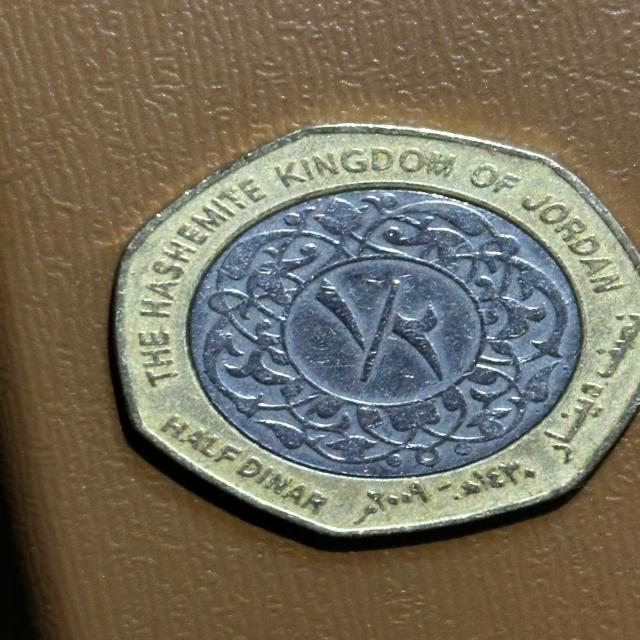50-coins: (106, 116, 640, 542)
